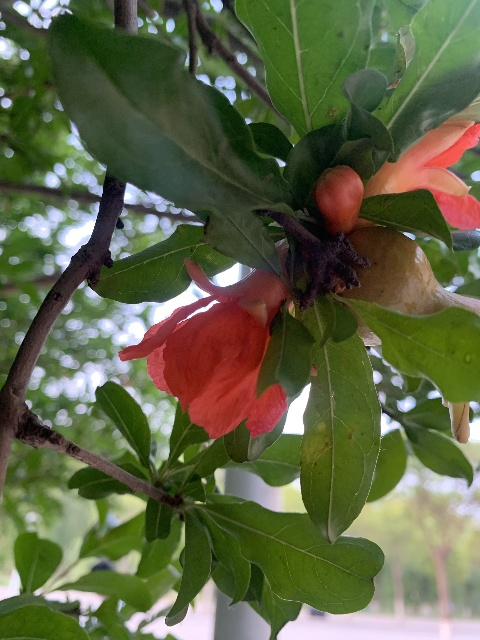bud: (312, 165, 363, 235)
early-fruit: (345, 226, 479, 446)
flower: (119, 257, 290, 440), (364, 117, 480, 230)
